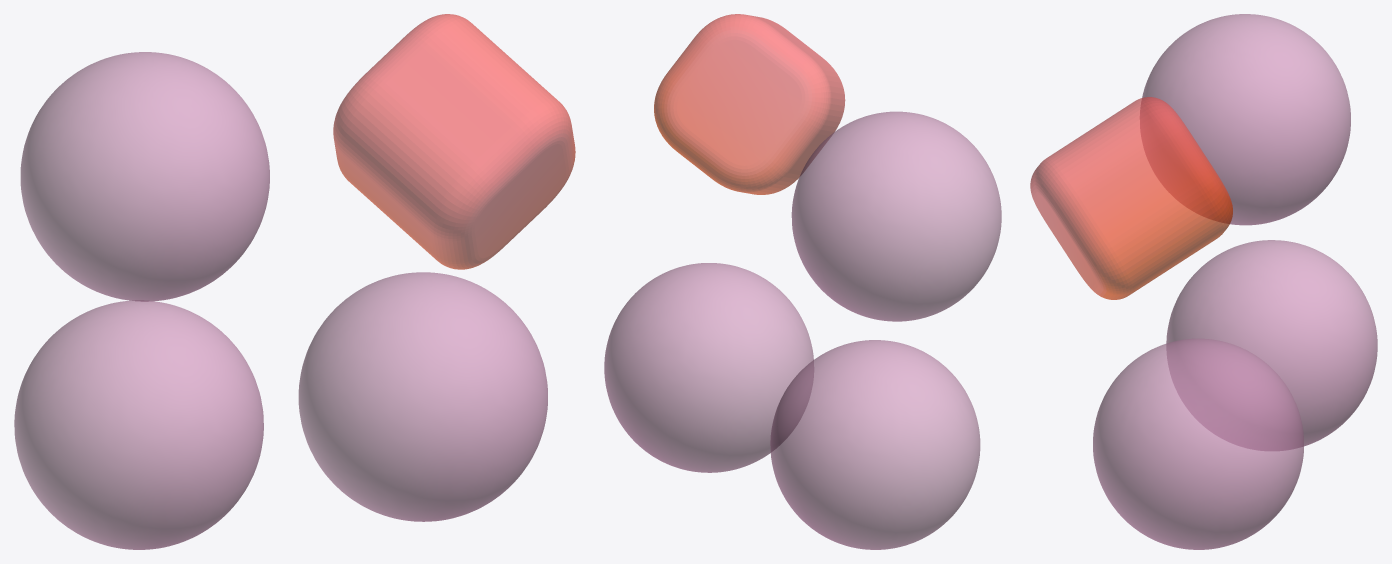
File: odd-one-out.glb
3 renders of one model, left to right at view 1: azimuth 30°, elevation 25°; view 2: azimuth 150°, elevation 25°; view 3: azimuth 270°, elevation 25°, orthographic. The views are drawn at different scales.
Parts seen in each view (by area): view 1: sphere_3, sphere_1, sphere_2, odd_cube; view 2: sphere_2, sphere_1, sphere_3, odd_cube; view 3: sphere_3, sphere_1, sphere_2, odd_cube.
Part boxes in pixels (x1,y1,x2,y2): sphere_3: [298, 272, 547, 521]; sphere_1: [20, 52, 269, 301]; sphere_2: [14, 300, 263, 549]; odd_cube: [333, 14, 575, 269]; sphere_2: [770, 340, 980, 549]; sphere_1: [791, 111, 1001, 321]; sphere_3: [604, 263, 813, 472]; odd_cube: [654, 14, 845, 194]; sphere_3: [1093, 338, 1303, 549]; sphere_1: [1140, 14, 1350, 225]; sphere_2: [1166, 240, 1377, 450]; odd_cube: [1030, 97, 1232, 299].
Bounding box in the file's own units: 1.04 × 1.09 × 0.7883.
